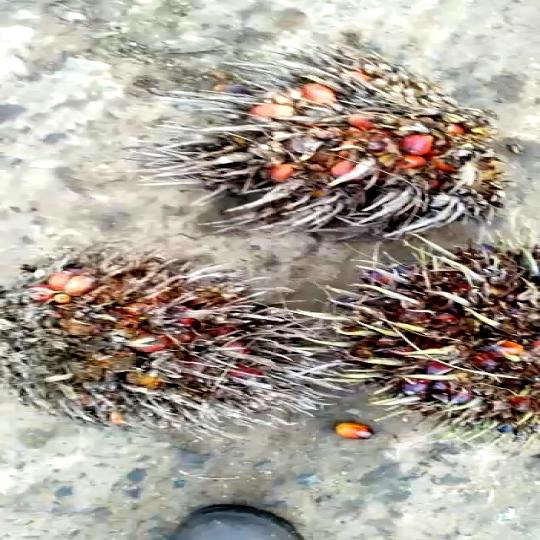terlalu masak: (125, 45, 510, 237), (0, 245, 322, 441), (319, 228, 540, 444)
